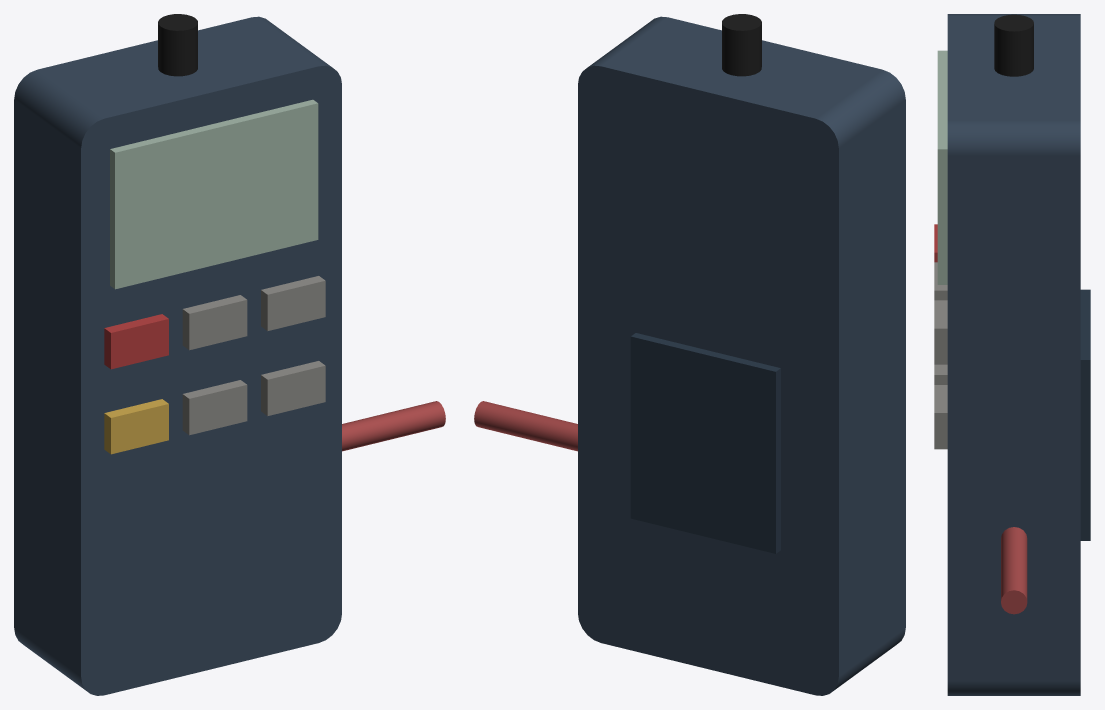
Rendered from lcr_meter.glb.
3 views of the same model, side by side, from view 1: azimuth 30°, elevation 25°; view 2: azimuth 150°, elevation 25°; view 3: azimuth 270°, elevation 25° (orthographic).
Visible parts, largest first — view 1: body, lcd_display, test_leads, dcr_button, hold_button, freq_button, ser_par_button, power_button, lcr_button, test_socket; view 2: body, battery_cover, test_leads, test_socket; view 3: body, battery_cover, lcd_display, test_socket, test_leads, freq_button, ser_par_button, hold_button, dcr_button.
Part boxes in pixels (bbox=[...]): body: bbox=[14, 16, 341, 695]; lcd_display: bbox=[110, 99, 318, 289]; test_leads: bbox=[342, 401, 445, 451]; dcr_button: bbox=[182, 380, 247, 435]; hold_button: bbox=[182, 295, 247, 350]; freq_button: bbox=[261, 276, 325, 330]; ser_par_button: bbox=[261, 361, 325, 415]; power_button: bbox=[104, 314, 168, 369]; lcr_button: bbox=[104, 399, 168, 454]; test_socket: bbox=[158, 14, 197, 76]; body: bbox=[578, 16, 905, 695]; battery_cover: bbox=[630, 333, 780, 553]; test_leads: bbox=[474, 401, 577, 451]; test_socket: bbox=[722, 14, 761, 76]; body: bbox=[947, 14, 1080, 695]; battery_cover: bbox=[1080, 289, 1090, 540]; lcd_display: bbox=[937, 50, 947, 284]; test_socket: bbox=[994, 14, 1033, 76]; test_leads: bbox=[1001, 527, 1027, 614]; freq_button: bbox=[934, 300, 947, 364]; ser_par_button: bbox=[934, 385, 947, 449]; hold_button: bbox=[934, 262, 947, 300]; dcr_button: bbox=[934, 364, 947, 384].
Bounding box in the file's own units: 0.135 × 0.205 × 0.047.
